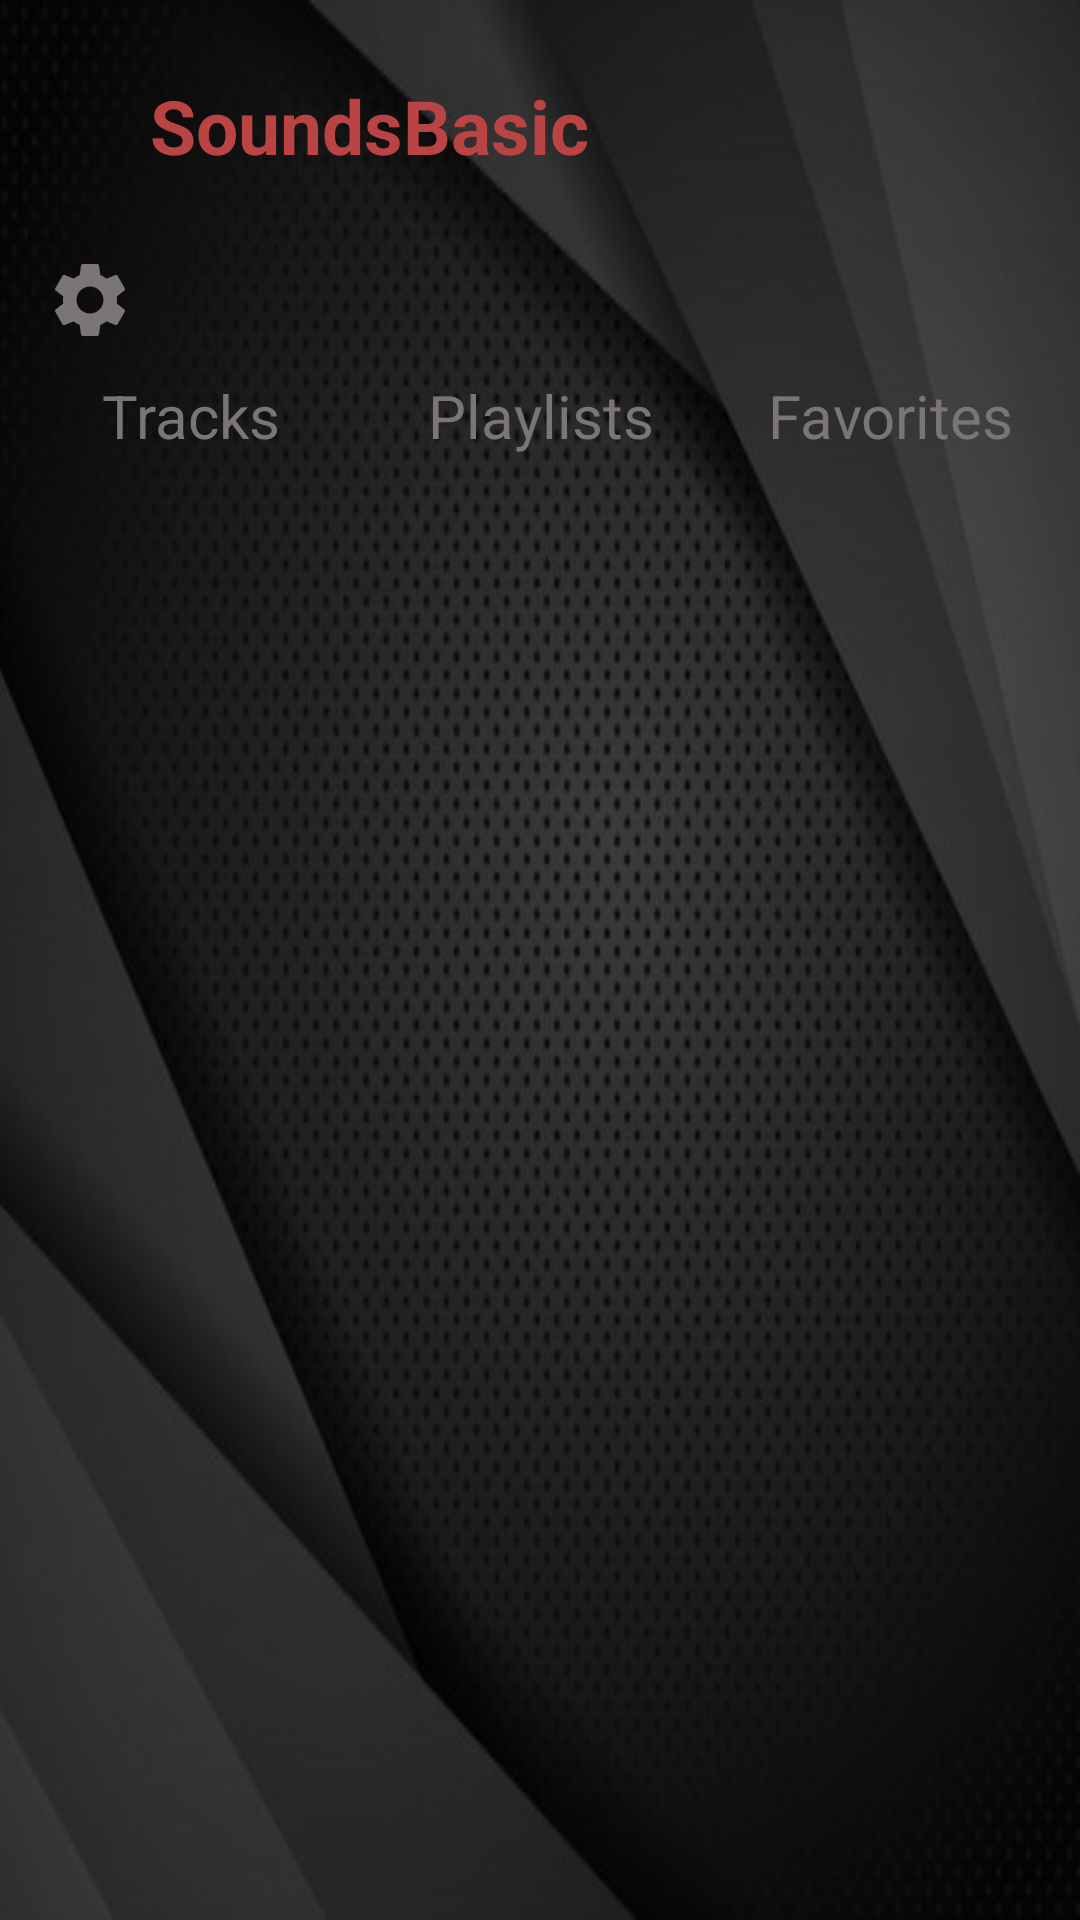

Point at icon controls on the screen. Image size 1080 × 1920, points as point (x, y).
settingsicongrey: point (90, 300)
